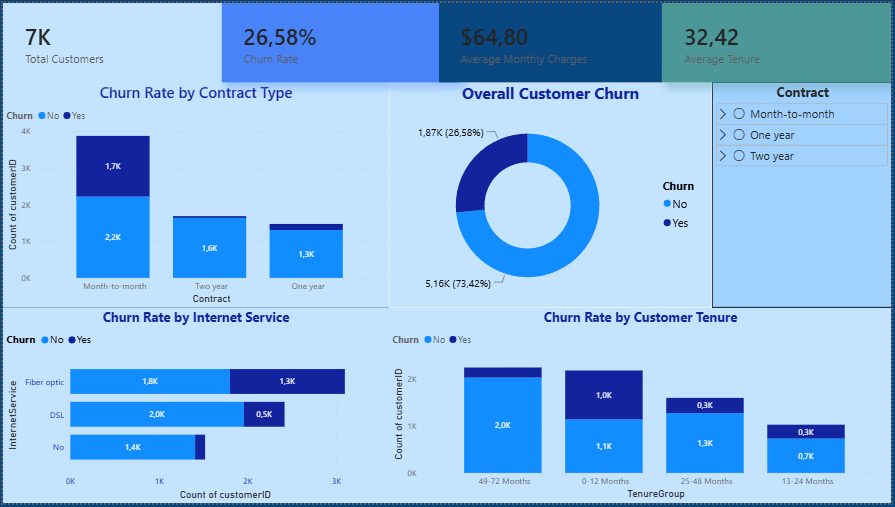

The page's visual inventory and layout, read from the dashboard file:
{"tool":"powerbi","page":{"name":"Executive Dashboard","canvas":[1280,720],"ordinal":0},"visuals":[{"type":"donutChart","title":"Overall Customer Churn","fields":{"Category":["telco_churn_clean.Churn"],"Y":["CountNonNull(telco_churn_clean.customerID)"]},"box":[555.8,113.8,465.1,325.4],"z":0},{"type":"columnChart","title":"Churn Rate by Contract Type","fields":{"Category":["telco_churn_clean.Contract"],"Series":["telco_churn_clean.Churn"],"Y":["CountNonNull(telco_churn_clean.customerID)"]},"box":[0,113.8,555.8,325.4],"z":1000},{"type":"barChart","title":"Churn Rate by Internet Service","fields":{"Category":["telco_churn_clean.InternetService"],"Series":["telco_churn_clean.Churn"],"Y":["CountNonNull(telco_churn_clean.customerID)"]},"box":[0,439.2,555.8,280.8],"z":2000},{"type":"columnChart","title":"Churn Rate by Customer Tenure","fields":{"Category":["telco_churn_clean.TenureGroup"],"Series":["telco_churn_clean.Churn"],"Y":["Count(telco_churn_clean.customerID)"]},"box":[555.8,439.2,724.3,280.8],"z":3000},{"type":"listSlicer","fields":{"Values":["telco_churn_clean.Contract","telco_churn_clean.InternetService","telco_churn_clean.PaymentMethod","telco_churn_clean.gender","telco_churn_clean.SeniorCitizen"]},"box":[1021,113.8,259.2,325.4],"z":4000},{"type":"cardVisual","fields":{"Data":["telco_churn_clean.Total Customers"]},"box":[0,0,315.4,113.8],"z":4001},{"type":"cardVisual","fields":{"Data":["telco_churn_clean.Churn Rate"]},"box":[315.4,0,339.8,113.8],"z":4002},{"type":"cardVisual","fields":{"Data":["telco_churn_clean.Average Monthly Charges"]},"box":[627.8,0,321.1,113.8],"z":4003},{"type":"cardVisual","fields":{"Data":["telco_churn_clean.Average Tenure"]},"box":[949,0,331.2,113.8],"z":4004}]}

Visuals, with their boxes in screenshot pixels (x1, y1, x2, y2), scaled from the page's 1280x720 canvas onto the 895x507 screenshot:
"Overall Customer Churn" donutChart: 389/80/714/309
"Churn Rate by Contract Type" columnChart: 0/80/389/309
"Churn Rate by Internet Service" barChart: 0/309/389/506
"Churn Rate by Customer Tenure" columnChart: 389/309/894/506
listSlicer - telco_churn_clean.Contract x telco_churn_clean.InternetService: 714/80/894/309
cardVisual - telco_churn_clean.Total Customers: 0/0/221/80
cardVisual - telco_churn_clean.Churn Rate: 221/0/458/80
cardVisual - telco_churn_clean.Average Monthly Charges: 439/0/663/80
cardVisual - telco_churn_clean.Average Tenure: 664/0/894/80
